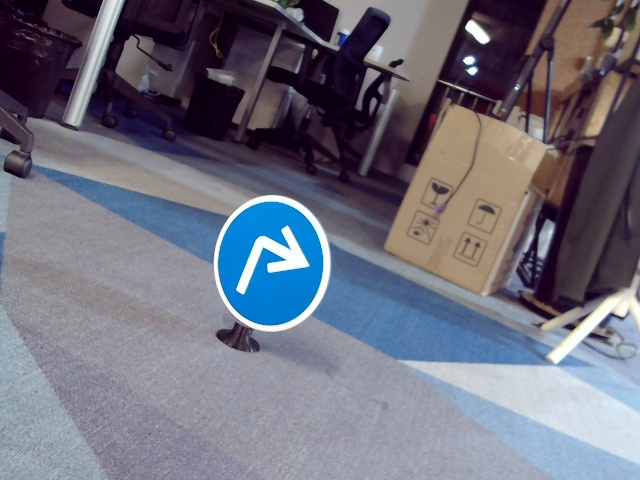turn_right: (235, 221, 306, 302)
